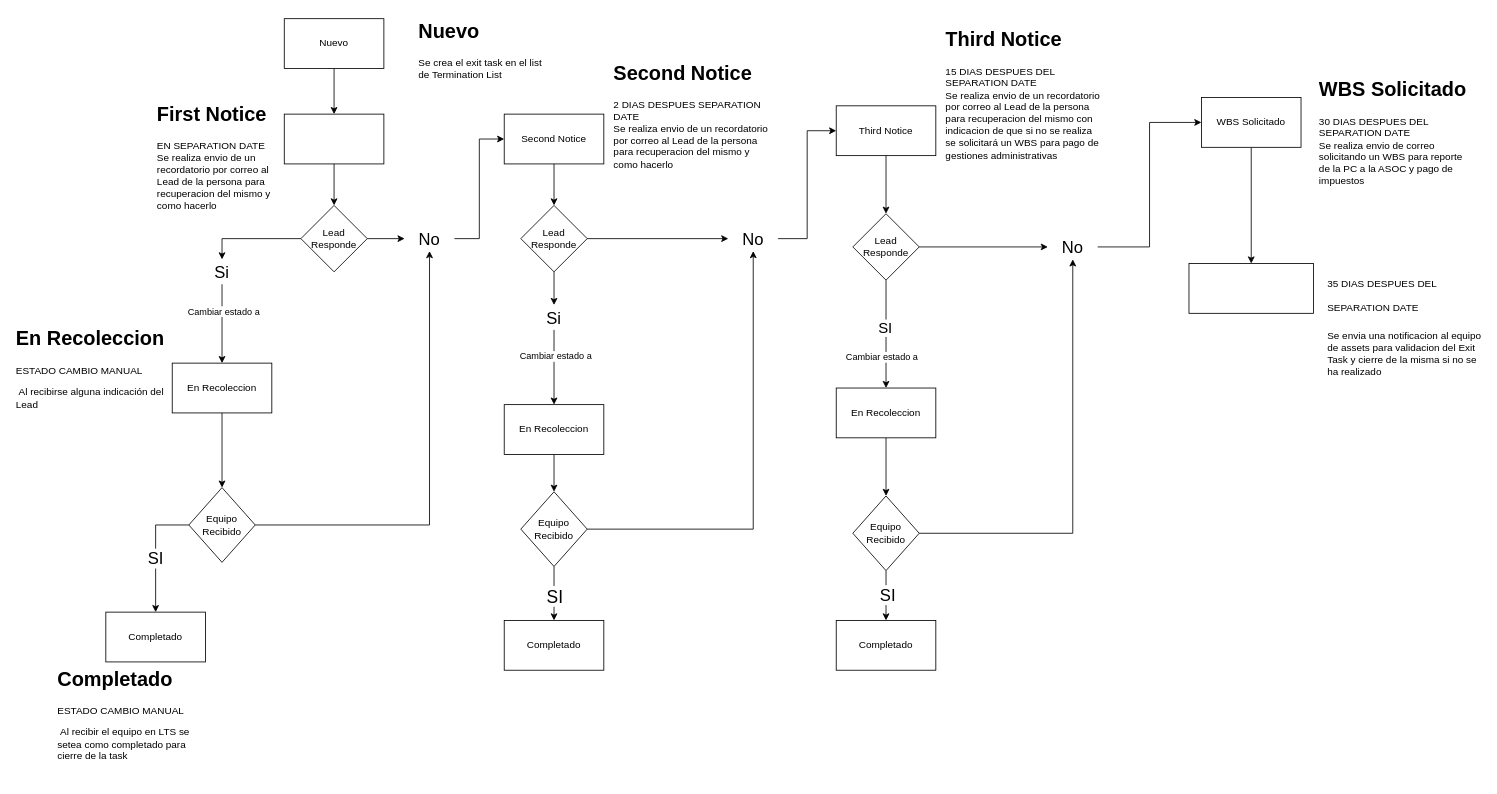
Some shapes in this 1497 by 794 pixel diagram are drawn without their labels. Here are the shapes that lost their labels. From the top down, the box of each, then its label:
(283, 113, 384, 164): First Notice
(1188, 263, 1313, 313): Recordatorio Interno para revision de la solicitud
